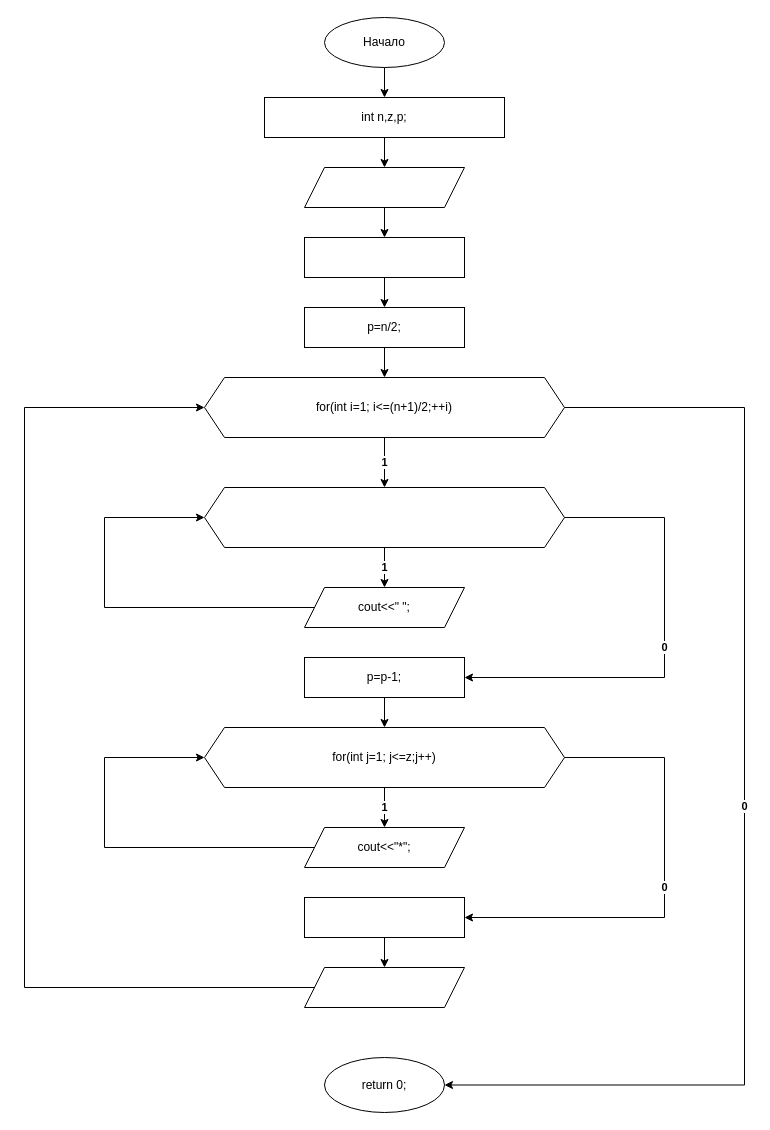
Image size: 770x1130. Some labels were removed from this diagram. Each missing label, with the box of its shape:
cin>>n;: (304, 166, 464, 208)
cout<<endl;: (304, 966, 464, 1008)
for (int j=1; j<=p;++j): (204, 486, 564, 548)
z+=2;: (304, 896, 464, 938)
z=1;: (304, 236, 464, 278)
